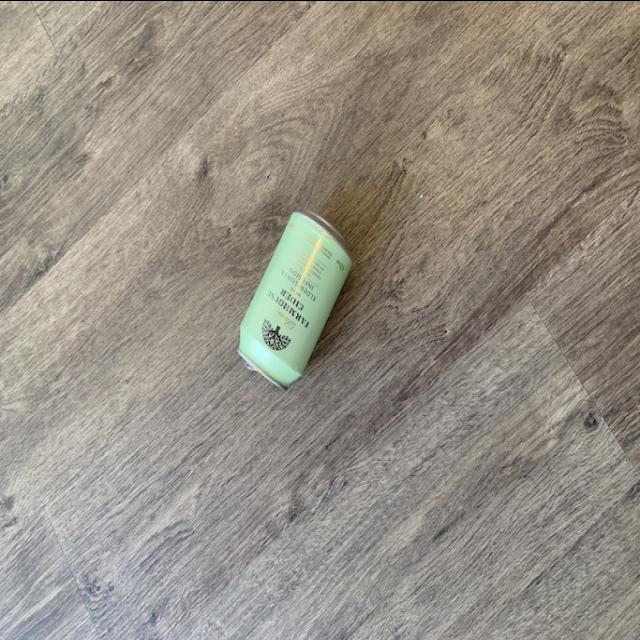litter: (232, 172, 364, 414)
